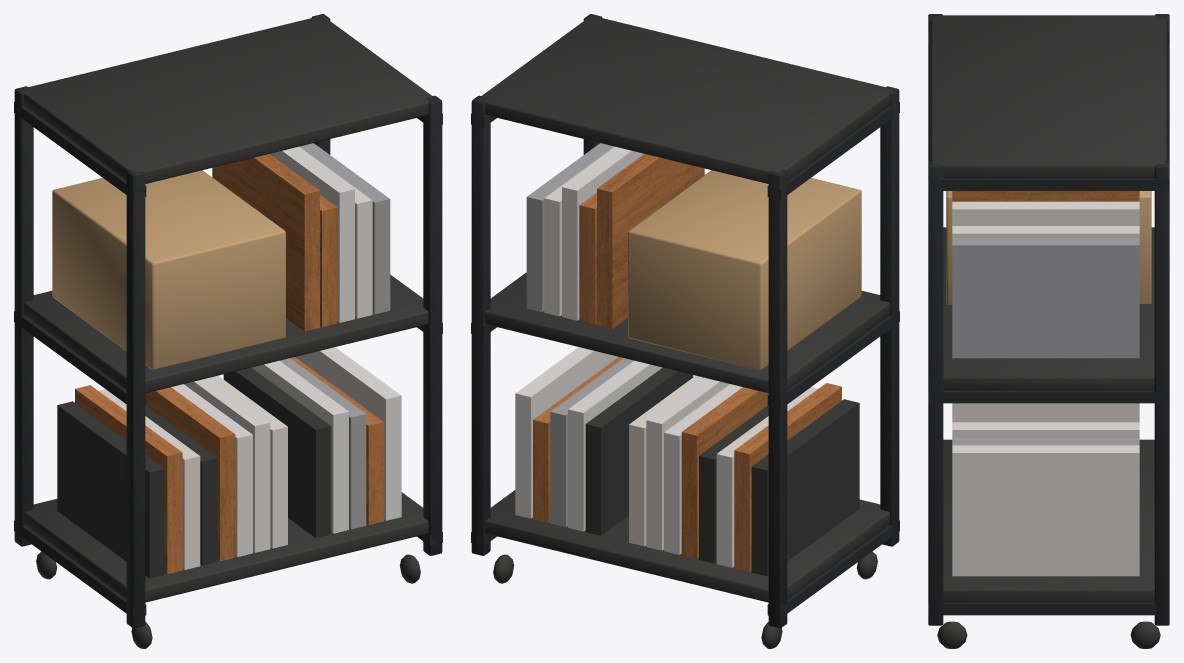
The model's file is utility.av-cart-600x400x900.glb.
3 renders of one model, left to right at view 1: azimuth 30°, elevation 25°; view 2: azimuth 150°, elevation 25°; view 3: azimuth 270°, elevation 25°, orthographic.
Visible parts, largest first — view 1: utility.av-cart-600x400x900.001; view 2: utility.av-cart-600x400x900.001; view 3: utility.av-cart-600x400x900.001.
Part boxes in pixels (x1=…): utility.av-cart-600x400x900.001: x1=14, y1=14, x2=442, y2=648; utility.av-cart-600x400x900.001: x1=471, y1=14, x2=899, y2=648; utility.av-cart-600x400x900.001: x1=928, y1=14, x2=1169, y2=648.
Size of the model in its own units: 0.6 by 0.9 by 0.4.
7 materials, 1 textured.
